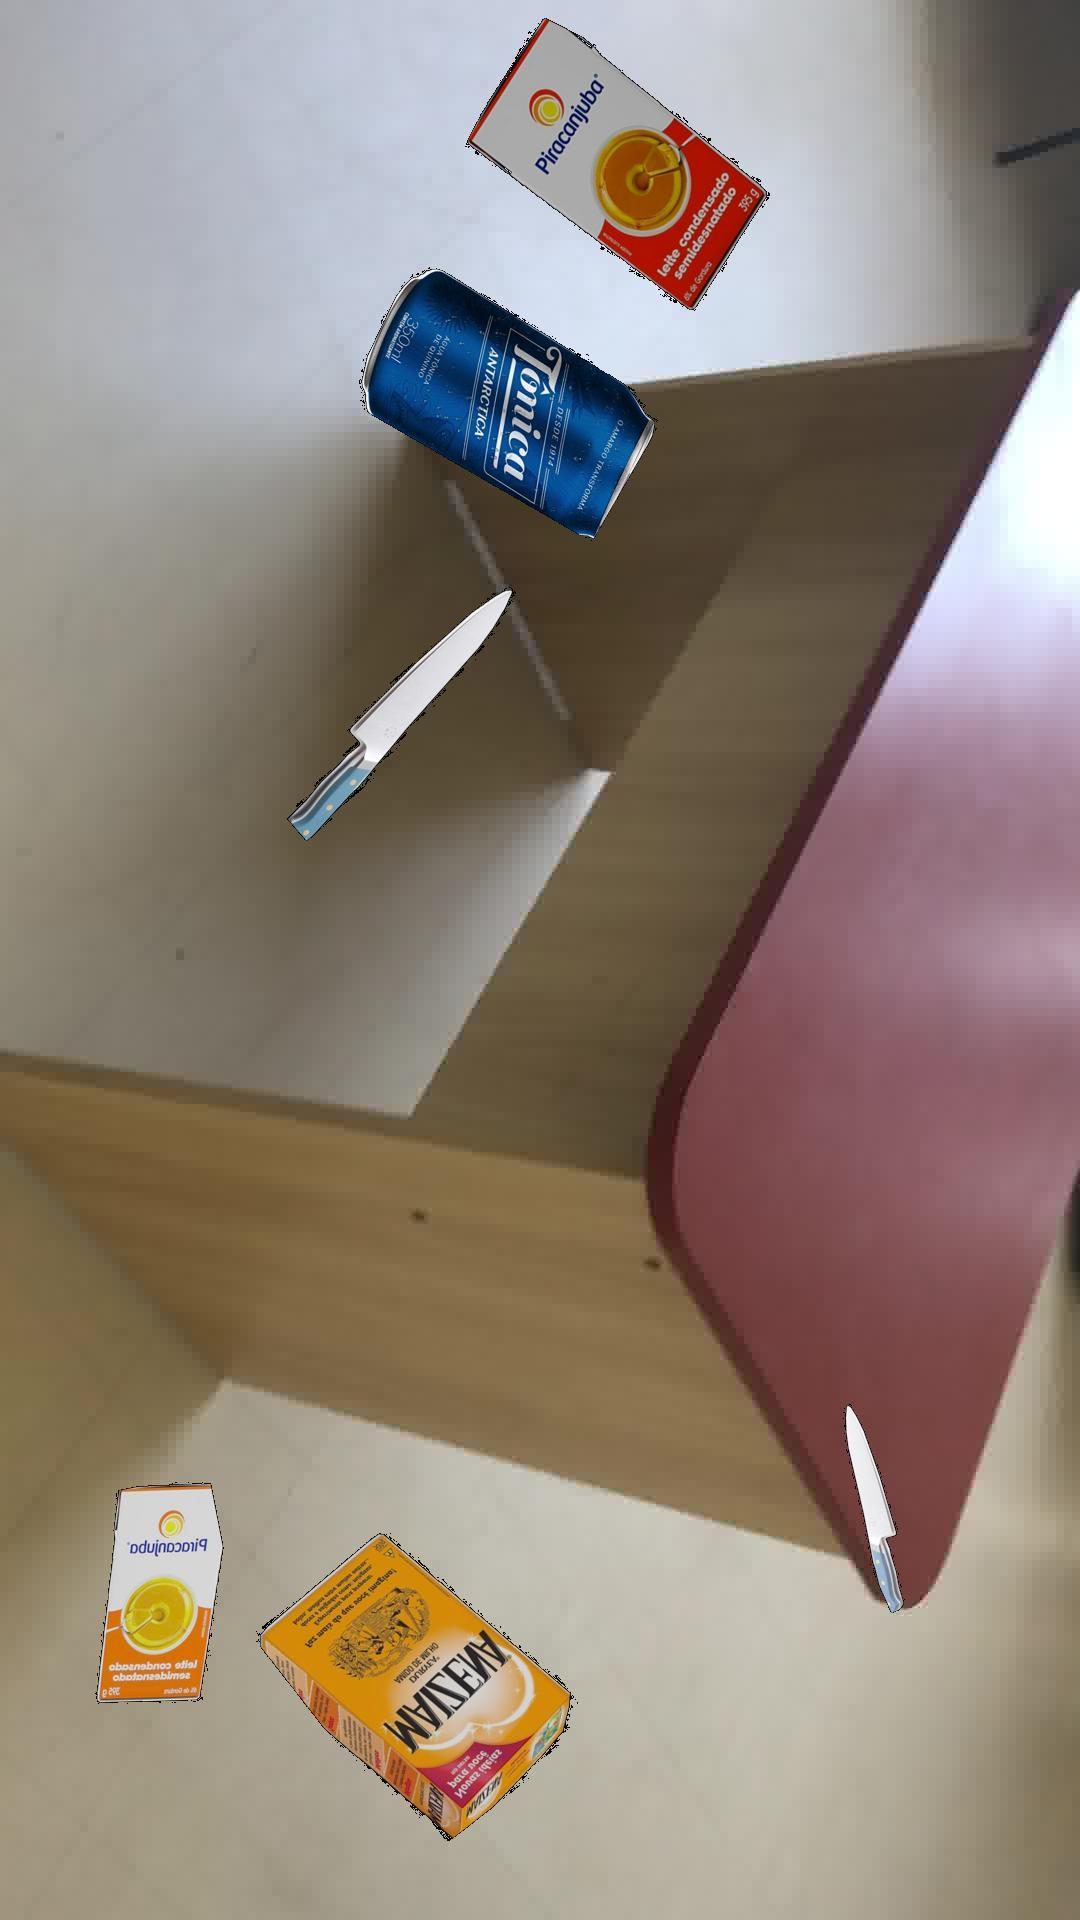knife: (286, 588, 514, 840), (843, 1403, 902, 1611)
tonic: (360, 266, 654, 538)
